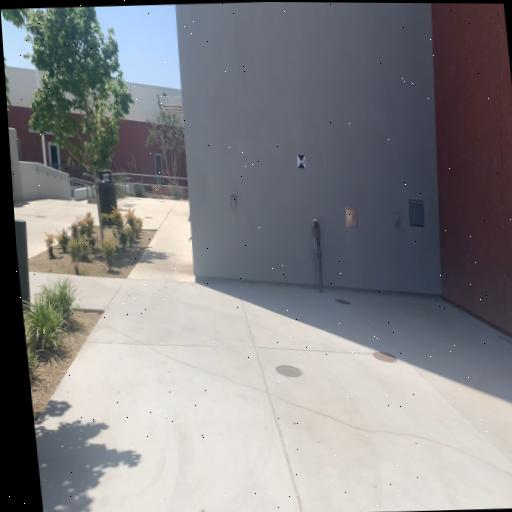target3: (297, 152, 306, 169)
